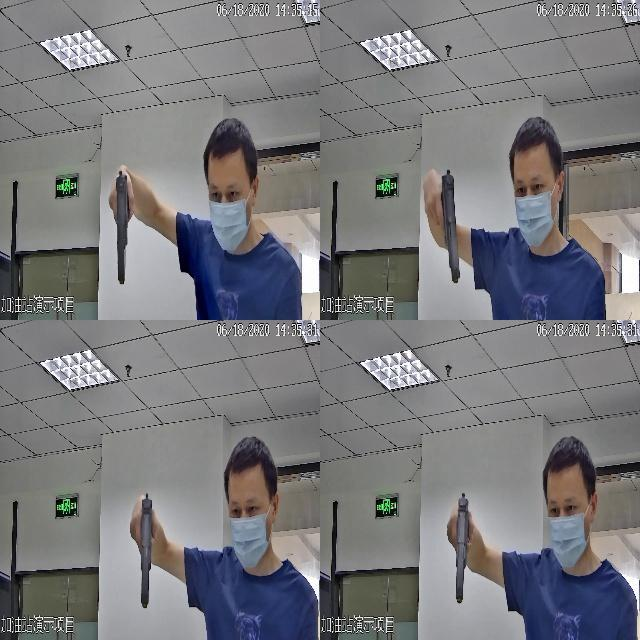gun-knife-thesis - v11 Yolov5 augmented: (423, 164, 459, 284), (104, 168, 134, 285), (129, 489, 159, 604), (445, 489, 473, 603)
